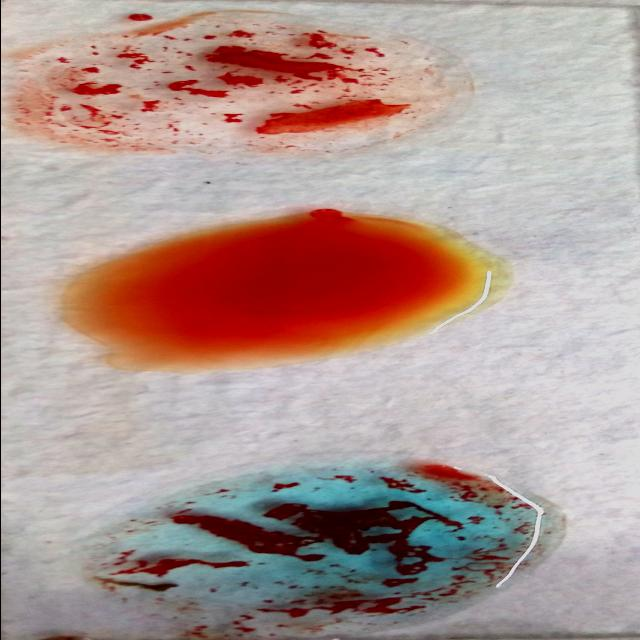A: (74, 468, 540, 624)
D: (19, 24, 452, 154)
